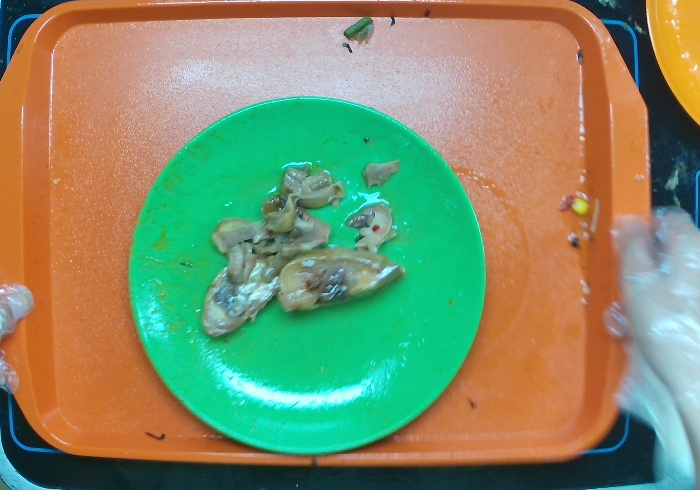HZYJPL-Lv_Se_Yuan_Pan: (123, 92, 491, 455)
